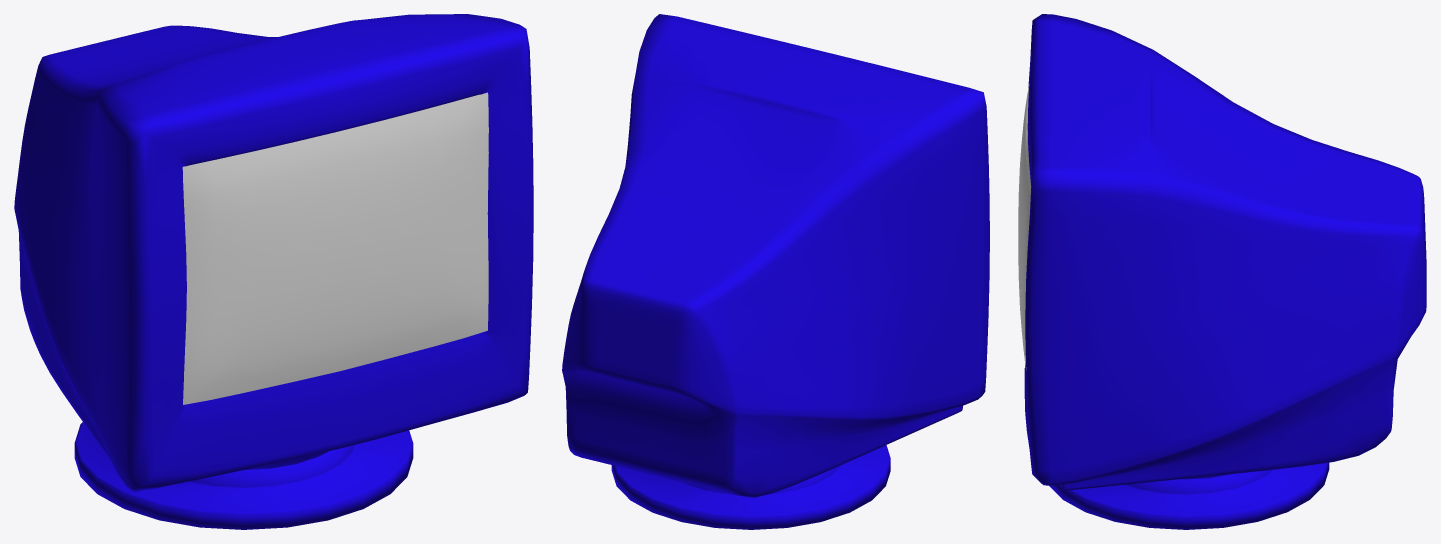
Rendered from monitor.fbx.
3 renders of one model, left to right at view 1: azimuth 30°, elevation 25°; view 2: azimuth 150°, elevation 25°; view 3: azimuth 270°, elevation 25°, orthographic. The views are drawn at different scales.
Parts seen in each view (by area): view 1: CRT_Monitor; view 2: CRT_Monitor; view 3: CRT_Monitor.
Part boxes in pixels (x1,y1,x2,y2): CRT_Monitor: [14, 14, 533, 529]; CRT_Monitor: [562, 14, 989, 529]; CRT_Monitor: [1018, 14, 1426, 529].
Size of the model in its own units: 40.59 by 43.3 by 42.61.
